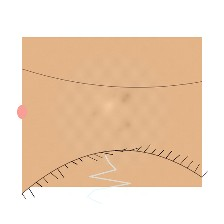foreign_body_visible: (51, 89, 82, 113)
